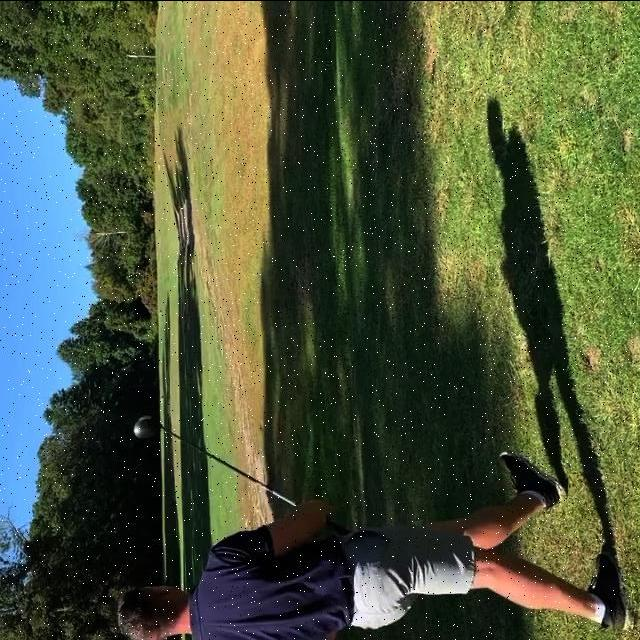golf club-handle: (131, 410, 354, 540)
golf club-head: (133, 413, 159, 437)
